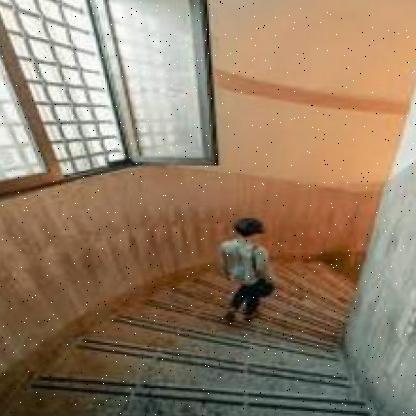stair_down: (62, 305, 338, 416)
